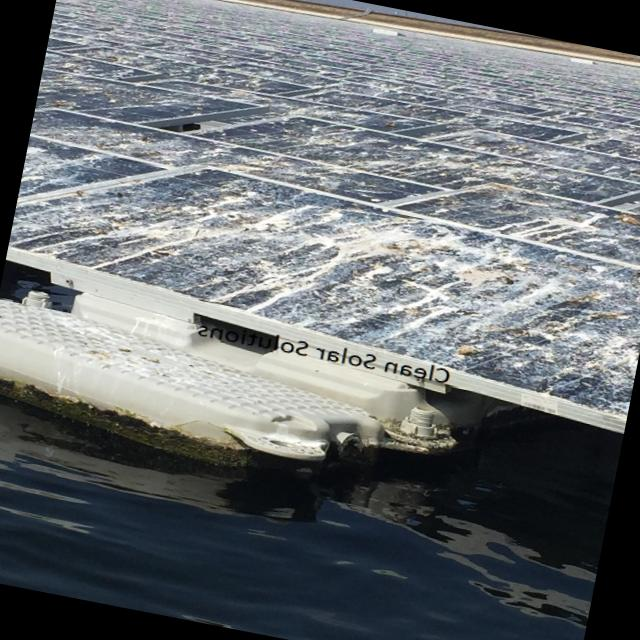faulty: (9, 0, 640, 420)
